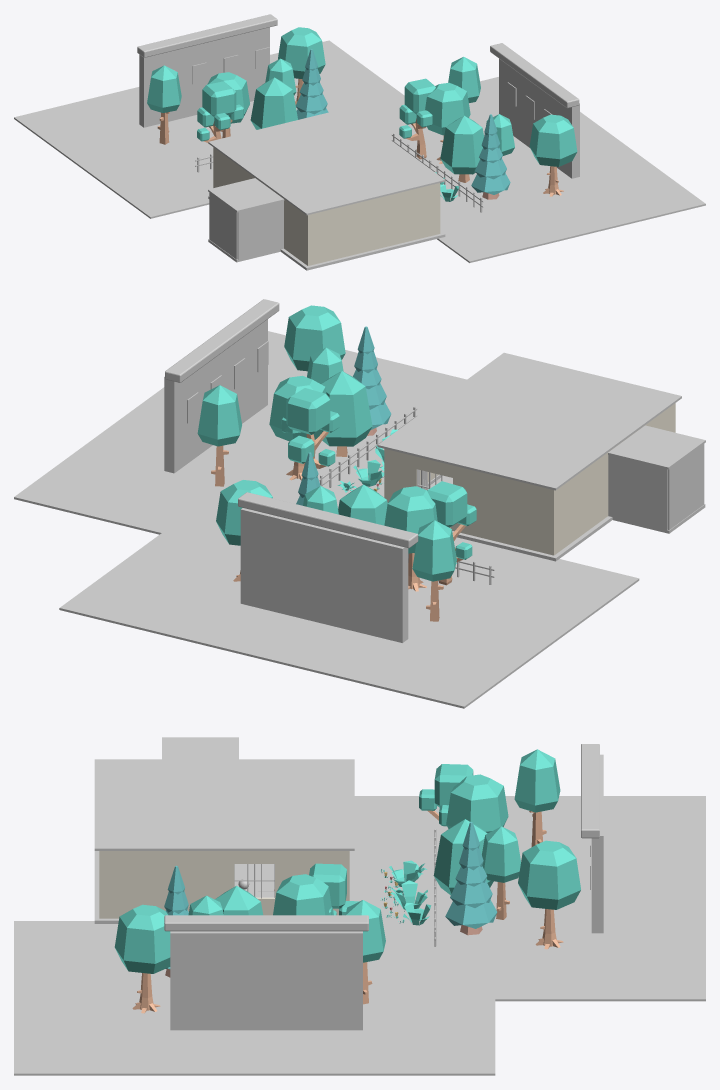
File: bedroom_bunk.glb
3 views of the same model, one above another, from view 1: azimuth 30°, elevation 25°; view 2: azimuth 150°, elevation 25°; view 3: azimuth 270°, elevation 25° (orthographic). The views are drawn at different scales.
Visible parts, largest first — view 1: grass, k_leafsGreen, ceiling, wall, house_far, wall_next, roof_far, k_leafsDark, k_woodBark, window_far, carpet, fence; view 2: grass, ceiling, house_far, k_leafsGreen, wall, wall_next, roof_far, k_leafsDark, k_woodBark, fence, carpet, window_far (+1 smaller); view 3: grass, ceiling, k_leafsGreen, house_far, wall, roof_far, k_leafsDark, k_woodBark, k_grass, carpet.
Part boxes in pixels (x1,y1,x2,y2): grass: (14, 40, 705, 262); k_leafsGreen: (147, 27, 577, 174); ceiling: (208, 108, 445, 215); wall: (213, 147, 440, 265); house_far: (139, 27, 579, 178); wall_next: (209, 192, 283, 259); roof_far: (137, 14, 579, 108); k_leafsDark: (295, 49, 510, 194); k_woodBark: (157, 78, 563, 196); window_far: (174, 47, 551, 119); carpet: (208, 196, 445, 270); fence: (195, 133, 483, 212); grass: (14, 331, 639, 708); ceiling: (377, 352, 705, 490); house_far: (164, 319, 408, 642); k_leafsGreen: (197, 305, 476, 581); wall: (384, 403, 675, 555); wall_next: (608, 444, 704, 530); roof_far: (165, 299, 418, 548); k_leafsDark: (296, 326, 391, 505); k_woodBark: (211, 431, 465, 621); fence: (318, 406, 494, 584); carpet: (428, 475, 612, 561); window_far: (187, 341, 268, 423); grass: (14, 796, 705, 1075); ceiling: (94, 737, 354, 850); k_leafsGreen: (114, 749, 580, 973); house_far: (170, 754, 603, 1030); wall: (99, 851, 349, 918); roof_far: (164, 744, 599, 931); k_leafsDark: (164, 822, 497, 969); k_woodBark: (132, 810, 563, 1013); k_grass: (380, 860, 431, 925); carpet: (94, 851, 354, 923).
Bounding box in the file's own units: 54.6 × 10.1 × 57.5.
